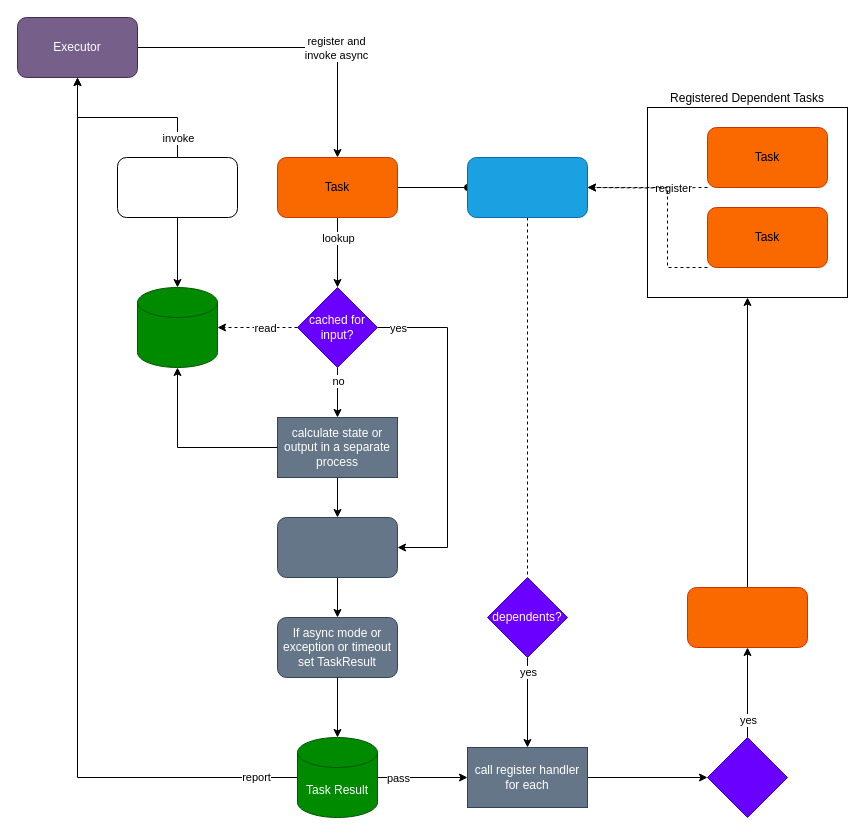
The diagram is 865 pixels wide and 835 high, and some of its shapes have lost their labels. Each missing label, with the box of its shape:
lambda listens for write and invokes Executor: (116, 156, 238, 218)
Launch Task async passing output to input: (686, 586, 808, 648)
Output data (None if async): (276, 516, 398, 578)
passed?: (706, 736, 788, 818)
saved state s3: (136, 286, 218, 368)
Task Dependencies: (466, 156, 588, 218)
